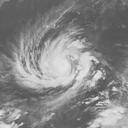cyclone: (12, 14, 98, 90)
